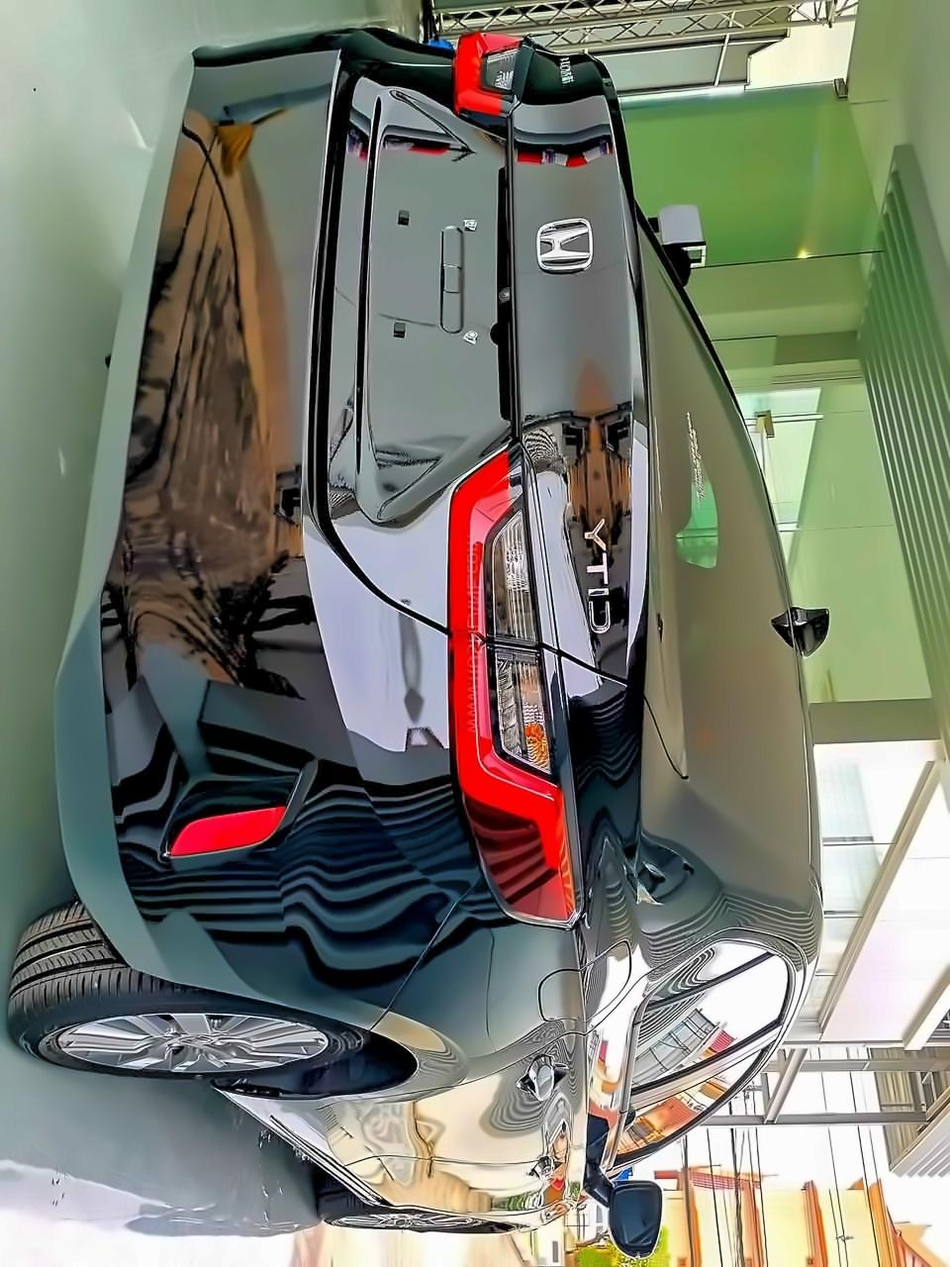Car boot: (319, 30, 684, 680)
Passenger-s door - -R-R-: (245, 953, 807, 1134)
Rear bumper: (38, 16, 468, 1031)
Rear light - -L-: (453, 10, 543, 135)
Rear light - -R-: (436, 440, 580, 934)
Side bumper - -R-: (206, 1071, 422, 1247)
Side mirror - -R-: (587, 1164, 660, 1258)
